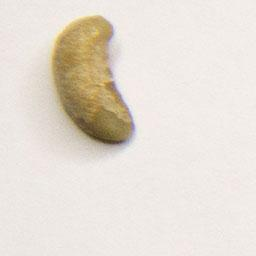defect: (49, 11, 139, 147)
